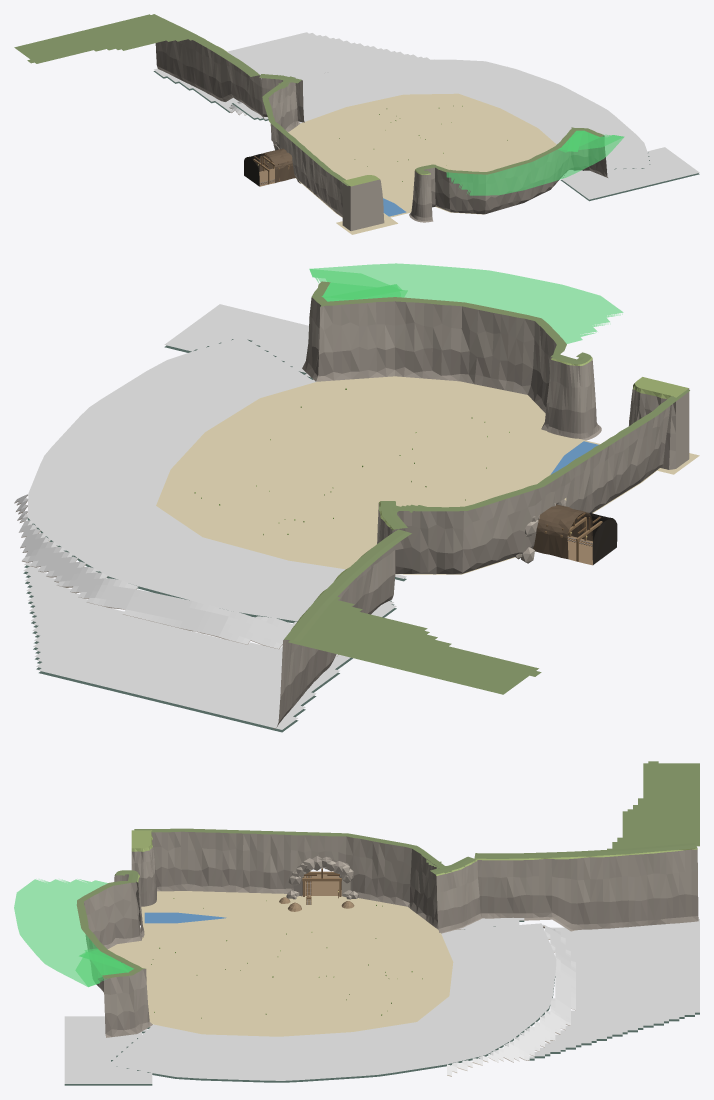
The model's file is playa.glb.
The picture shows the model from 3 angles, top to bottom: view 1: azimuth 30°, elevation 25°; view 2: azimuth 150°, elevation 25°; view 3: azimuth 270°, elevation 25°; orthographic projection. The views are drawn at different scales.
Parts seen in each view (by area): view 1: PlayaMeadow, AutoWater_PlayaOrilla, PlayaSurCanyon, AutoWater_PlayaEnlaceLago, PlayaEnlaceCanyon, AutoForest_PlayaSur, PlayaAcantiladoCanyon, AutoForest_PlayaEnlaceMeseta, AutoWater_PlayaSurRincon, PlayaRemateRock-col, MinaTunel, PlayaCurvaCanyon (+1 smaller); view 2: PlayaMeadow, AutoWater_PlayaOrilla, AutoWater_PlayaEnlaceLago, PlayaSurCanyon, PlayaAcantiladoCanyon, AutoForest_PlayaSur, AutoForest_PlayaEnlaceMeseta, AutoWater_PlayaSalto, PlayaEnlaceCanyon, AutoWater_PlayaSurRincon, PlayaCurvaCanyon, MinaTunel (+3 smaller); view 3: PlayaMeadow, AutoWater_PlayaOrilla, PlayaEnlaceCanyon, PlayaAcantiladoCanyon, AutoWater_PlayaEnlaceLago, AutoForest_PlayaSur, PlayaSurCanyon, AutoForest_PlayaEnlaceMeseta, AutoWater_PlayaSurRincon, AutoWater_PlayaSalto, PlayaNorteCanyon, PlayaRemateRock-col (+4 smaller).
Part boxes in pixels (bbox=[...]): PlayaMeadow: bbox=[288, 93, 556, 218]; AutoWater_PlayaOrilla: bbox=[299, 59, 650, 168]; PlayaSurCanyon: bbox=[425, 127, 607, 214]; AutoWater_PlayaEnlaceLago: bbox=[154, 32, 429, 111]; PlayaEnlaceCanyon: bbox=[147, 14, 266, 119]; AutoForest_PlayaSur: bbox=[446, 130, 624, 195]; PlayaAcantiladoCanyon: bbox=[262, 76, 349, 216]; AutoForest_PlayaEnlaceMeseta: bbox=[14, 14, 291, 88]; AutoWater_PlayaSurRincon: bbox=[561, 147, 699, 199]; PlayaRemateRock-col: bbox=[342, 175, 384, 231]; MinaTunel: bbox=[244, 148, 295, 186]; PlayaCurvaCanyon: bbox=[409, 164, 434, 222]; PlayaMeadow: bbox=[156, 376, 658, 574]; AutoWater_PlayaOrilla: bbox=[27, 337, 345, 621]; AutoWater_PlayaEnlaceLago: bbox=[23, 562, 350, 729]; PlayaSurCanyon: bbox=[302, 281, 566, 430]; PlayaAcantiladoCanyon: bbox=[379, 389, 689, 574]; AutoForest_PlayaSur: bbox=[309, 263, 623, 343]; AutoForest_PlayaEnlaceMeseta: bbox=[288, 504, 541, 694]; AutoWater_PlayaSalto: bbox=[14, 494, 337, 656]; PlayaEnlaceCanyon: bbox=[273, 529, 411, 729]; AutoWater_PlayaSurRincon: bbox=[164, 304, 316, 381]; PlayaCurvaCanyon: bbox=[547, 352, 601, 440]; MinaTunel: bbox=[533, 504, 617, 565]; PlayaMeadow: bbox=[108, 891, 453, 1036]; AutoWater_PlayaOrilla: bbox=[109, 923, 556, 1080]; PlayaEnlaceCanyon: bbox=[474, 843, 698, 931]; PlayaAcantiladoCanyon: bbox=[134, 828, 451, 929]; AutoWater_PlayaEnlaceLago: bbox=[529, 919, 699, 1058]; AutoForest_PlayaSur: bbox=[14, 879, 133, 987]; PlayaSurCanyon: bbox=[76, 880, 152, 1037]; AutoForest_PlayaEnlaceMeseta: bbox=[426, 761, 699, 869]; AutoWater_PlayaSurRincon: bbox=[64, 1016, 152, 1083]; AutoWater_PlayaSalto: bbox=[447, 924, 575, 1075]; PlayaNorteCanyon: bbox=[430, 856, 482, 933]; PlayaRemateRock-col: bbox=[131, 830, 156, 906].
Size of what is drawn, in the model's own units: 244 by 31.02 by 266.
